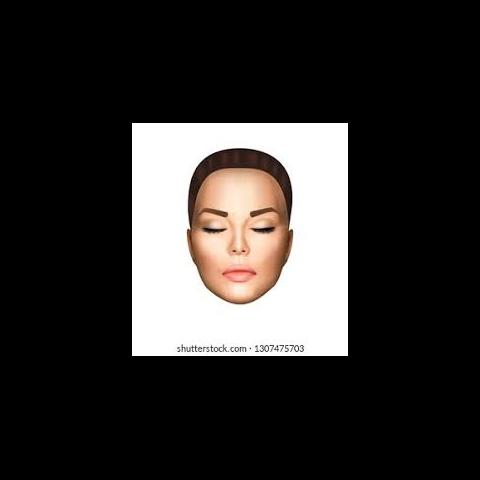closed: (197, 203, 279, 240)
